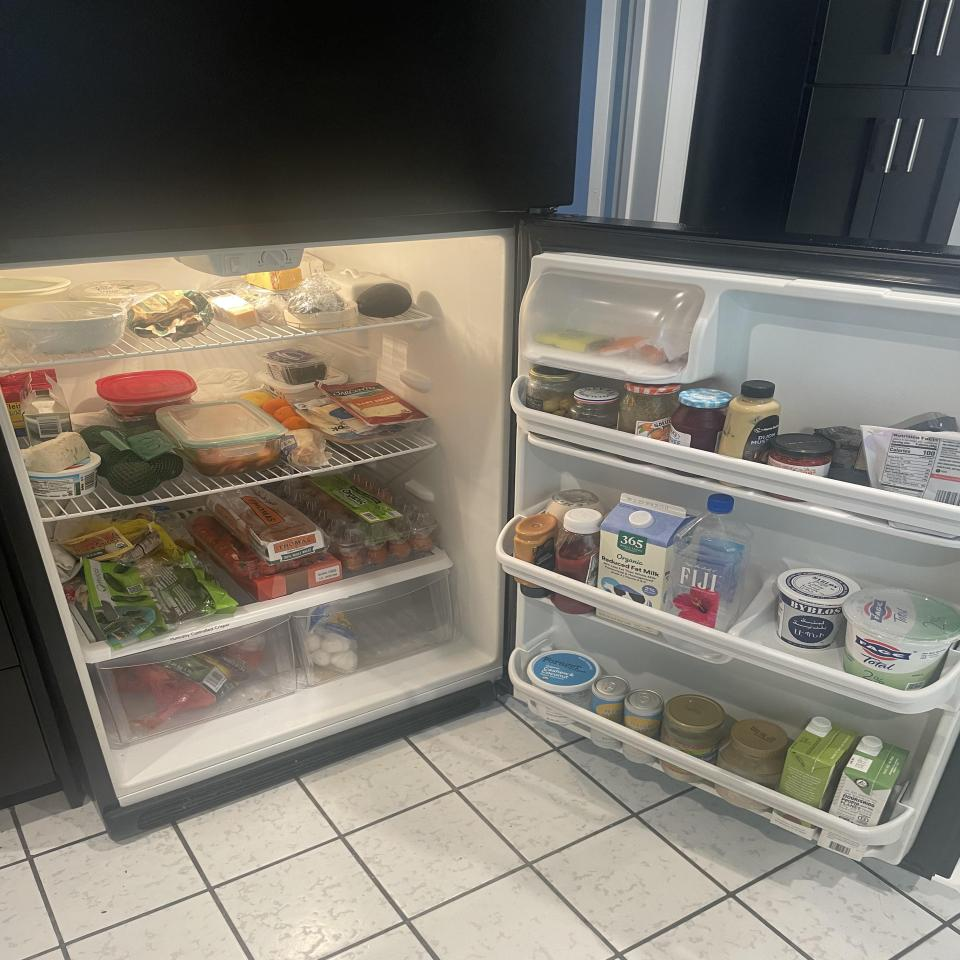Aguacate: (354, 283, 412, 318), (107, 459, 156, 495), (81, 425, 125, 449), (156, 452, 184, 480)
Huevos: (278, 464, 439, 556), (329, 533, 438, 572)
Leche: (600, 493, 698, 636)
Limón: (239, 391, 273, 408)
Queso: (314, 380, 431, 424), (309, 403, 383, 435), (207, 293, 260, 330), (246, 269, 304, 292)
Yogur: (834, 588, 960, 692), (772, 568, 863, 652)
ketchup: (551, 508, 603, 615)
mustard: (717, 380, 781, 466)
orange: (262, 398, 289, 415), (282, 416, 309, 432), (272, 406, 296, 422)
strawberries: (190, 516, 318, 578)
